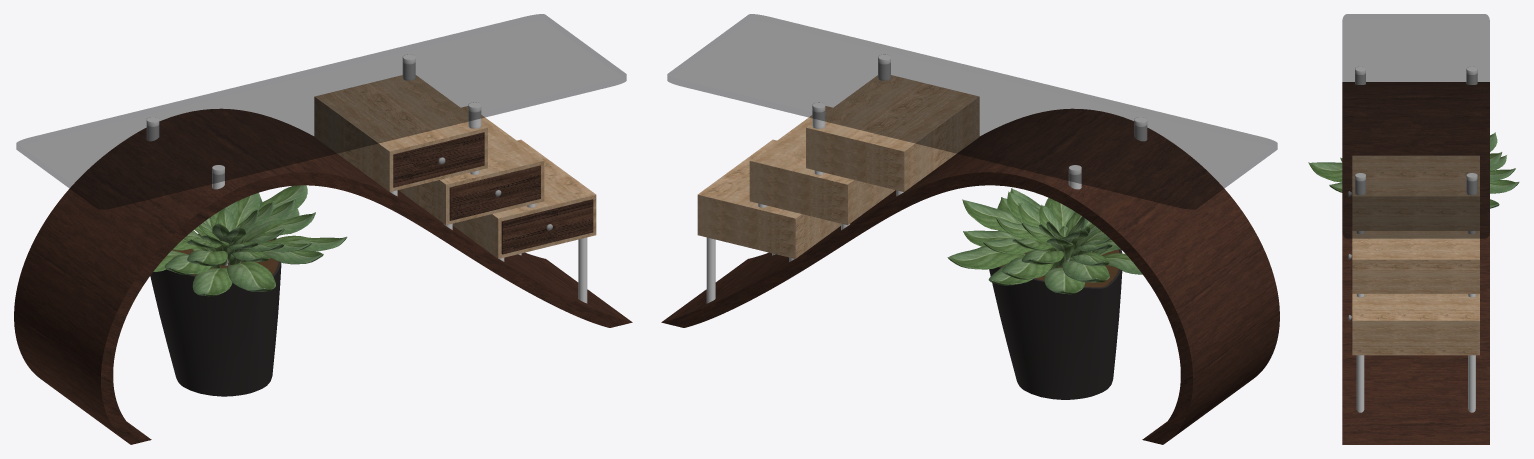
File: curved_table.glb
The picture shows the model from 3 angles, left to right: view 1: azimuth 30°, elevation 25°; view 2: azimuth 150°, elevation 25°; view 3: azimuth 270°, elevation 25°; orthographic projection. The views are drawn at different scales.
Parts seen in each view (by area): view 1: Table, Glass, Plant, Shelf2, Shelf, Metallic; view 2: Table, Glass, Shelf2, Plant, Metallic; view 3: Glass, Table, Shelf2, Metallic, Plant, Shelf.
Boxes of the visible parts, bbox=[...] form: Table: bbox=[14, 108, 632, 444]; Glass: bbox=[16, 14, 626, 209]; Plant: bbox=[150, 185, 347, 396]; Shelf2: bbox=[314, 75, 596, 258]; Shelf: bbox=[393, 132, 593, 254]; Metallic: bbox=[146, 54, 587, 303]; Table: bbox=[661, 108, 1279, 444]; Glass: bbox=[667, 14, 1277, 209]; Shelf2: bbox=[697, 75, 979, 258]; Plant: bbox=[947, 188, 1142, 399]; Metallic: bbox=[706, 54, 1147, 303]; Glass: bbox=[1342, 14, 1489, 238]; Table: bbox=[1342, 82, 1489, 444]; Shelf2: bbox=[1352, 155, 1479, 355]; Metallic: bbox=[1355, 66, 1477, 412]; Plant: bbox=[1308, 132, 1519, 208]; Shelf: bbox=[1351, 161, 1352, 350].
Bounding box in the file's own units: 708 × 315 × 286.
9 materials, 4 textured.
